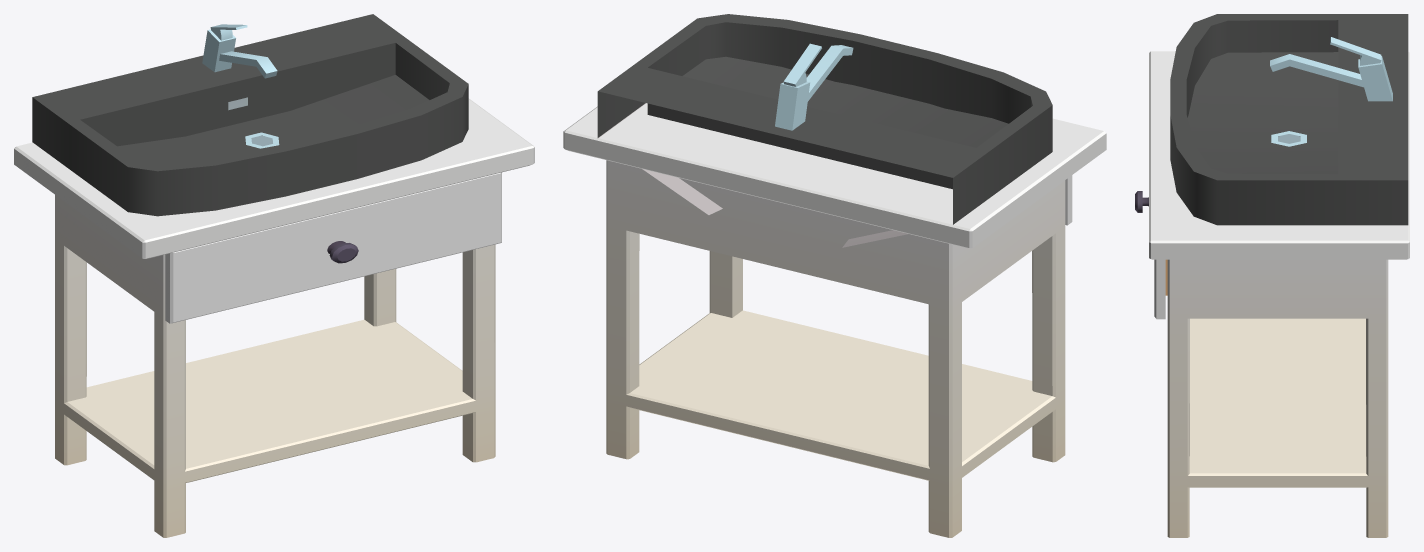
Rendered from Sink.fbx.
3 renders of one model, left to right at view 1: azimuth 30°, elevation 25°; view 2: azimuth 150°, elevation 25°; view 3: azimuth 270°, elevation 25°, orthographic. The views are drawn at different scales.
Visible parts, largest first — view 1: Sink; view 2: Sink; view 3: Sink.
Boxes of the visible parts, left/top/right/bottom form: Sink: left=14, top=14, right=534, bottom=537; Sink: left=563, top=14, right=1106, bottom=537; Sink: left=1135, top=14, right=1409, bottom=537.
Size of the model in its own units: 9.97 by 10.04 by 6.05.
Materials: 2 (2 with a texture image).
